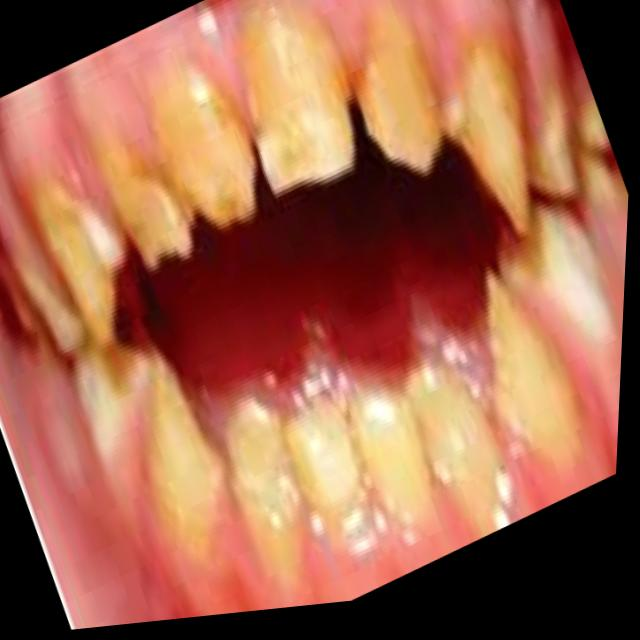tooth-discoloration: (240, 0, 354, 189), (488, 272, 578, 459), (155, 65, 255, 224), (149, 353, 223, 557), (32, 174, 122, 340), (356, 0, 442, 171), (455, 38, 529, 229), (227, 397, 298, 575), (100, 142, 191, 263), (351, 386, 431, 521), (289, 401, 360, 513)
